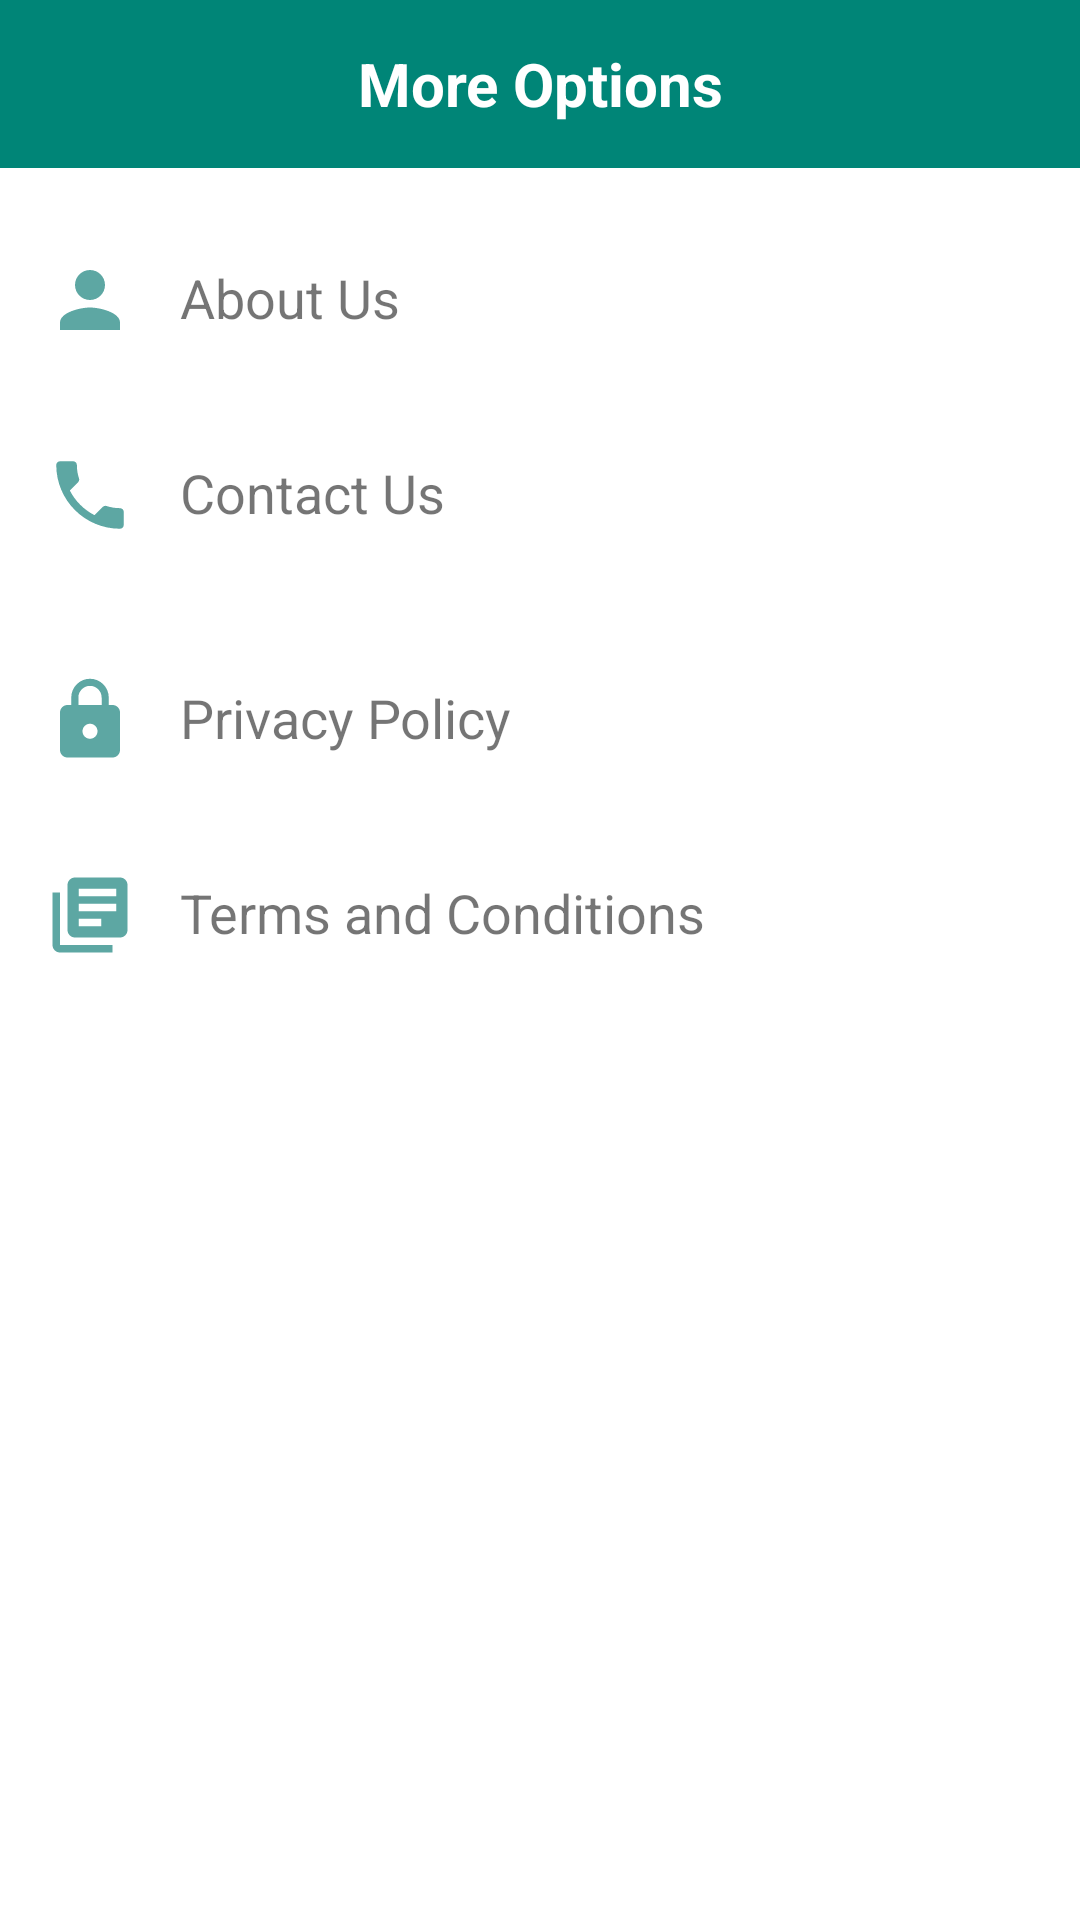

Locate icon controls on the screen. Image size 1080x1920, boxes as (left=x1, top=y1, right=x2, bottom=y2).
library books: (left=52, top=877, right=128, bottom=953)
local phone: (left=56, top=461, right=124, bottom=529)
lock: (left=60, top=678, right=120, bottom=758)
person: (left=60, top=270, right=120, bottom=330)
